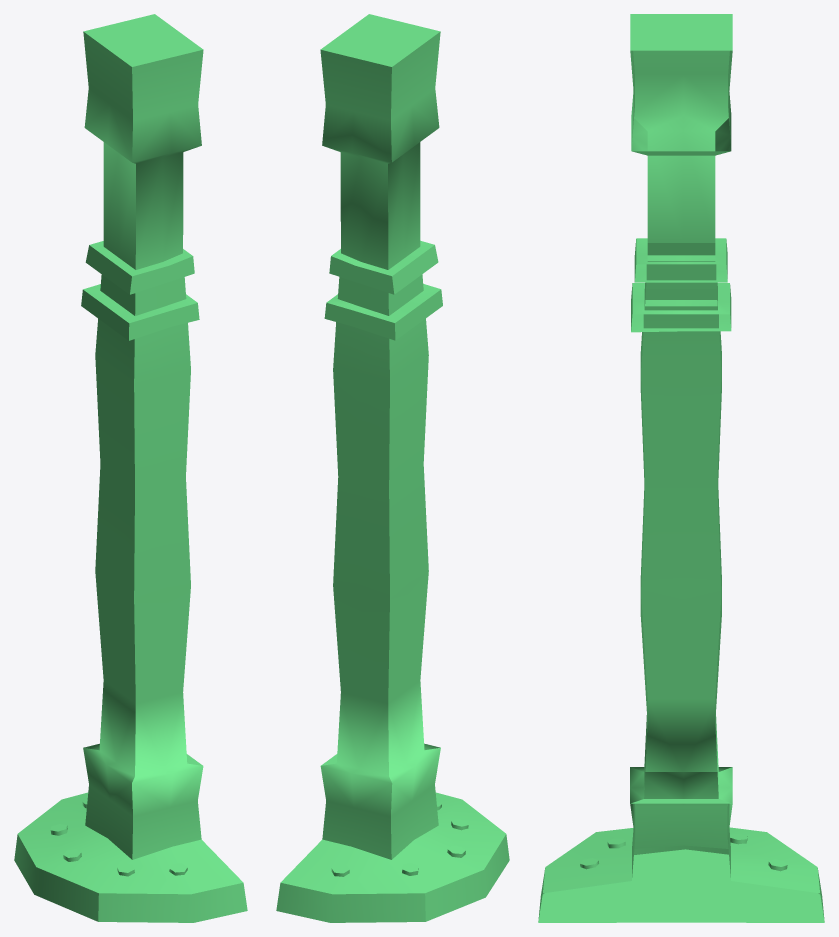
File: Kolumna.fbx
3 views of the same model, side by side, from view 1: azimuth 30°, elevation 25°; view 2: azimuth 150°, elevation 25°; view 3: azimuth 270°, elevation 25° (orthographic). The views are drawn at different scales.
Parts seen in each view (by area): view 1: Kolumna_cała_low; view 2: Kolumna_cała_low; view 3: Kolumna_cała_low.
Boxes of the visible parts, left/top/right/bottom form: Kolumna_cała_low: left=14, top=14, right=247, bottom=922; Kolumna_cała_low: left=276, top=14, right=509, bottom=922; Kolumna_cała_low: left=538, top=14, right=824, bottom=922.
Bounding box in the file's own units: 278 × 1536 × 457.
